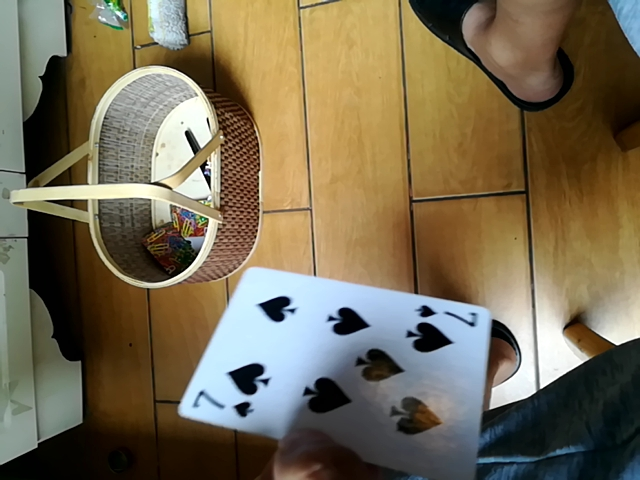ht 7: (180, 265, 495, 474)
